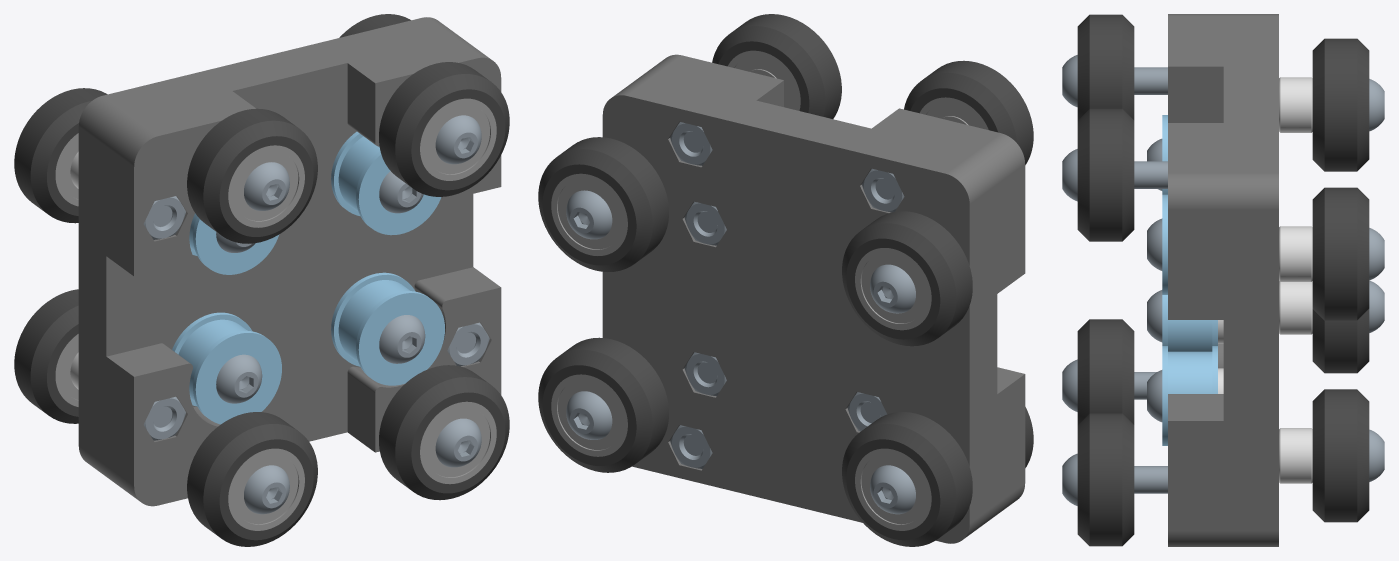
The model's file is carriage.obj.
3 renders of one model, left to right at view 1: azimuth 30°, elevation 25°; view 2: azimuth 150°, elevation 25°; view 3: azimuth 270°, elevation 25°, orthographic.
Parts seen in each view (by area): view 1: mesh134, mesh74, mesh119, mesh75, mesh112, mesh317, mesh76, mesh58, mesh230, mesh307, mesh60, mesh9 (+21 smaller); view 2: mesh286, mesh74, mesh119, mesh112, mesh75, mesh73, mesh76, mesh9, mesh58, mesh72, mesh43, mesh60 (+8 smaller); view 3: mesh74, mesh128, mesh112, mesh73, mesh75, mesh48, mesh9, mesh106, mesh318, mesh6, mesh113, mesh82 (+6 smaller).
Boxes of the visible parts, bbox=[...] form: mesh134: bbox=[106, 63, 473, 441]; mesh74: bbox=[14, 14, 488, 537]; mesh119: bbox=[78, 127, 133, 485]; mesh75: bbox=[203, 74, 509, 546]; mesh112: bbox=[103, 18, 476, 135]; mesh317: bbox=[195, 154, 444, 424]; mesh76: bbox=[219, 89, 505, 540]; mesh58: bbox=[234, 104, 489, 524]; mesh230: bbox=[134, 363, 217, 506]; mesh307: bbox=[134, 120, 221, 276]; mesh60: bbox=[228, 98, 496, 530]; mesh9: bbox=[244, 115, 481, 514]; mesh286: bbox=[602, 95, 969, 543]; mesh74: bbox=[558, 14, 1033, 536]; mesh119: bbox=[969, 164, 1025, 523]; mesh112: bbox=[627, 55, 1000, 173]; mesh75: bbox=[538, 149, 956, 546]; mesh73: bbox=[538, 26, 1016, 472]; mesh76: bbox=[542, 164, 940, 540]; mesh9: bbox=[566, 190, 915, 514]; mesh58: bbox=[558, 180, 925, 524]; mesh72: bbox=[542, 41, 997, 465]; mesh43: bbox=[672, 123, 902, 467]; mesh60: bbox=[551, 173, 931, 530]; mesh74: bbox=[1089, 14, 1357, 546]; mesh128: bbox=[1168, 210, 1278, 530]; mesh112: bbox=[1168, 16, 1278, 172]; mesh73: bbox=[1122, 15, 1369, 545]; mesh75: bbox=[1077, 15, 1369, 545]; mesh48: bbox=[1280, 77, 1311, 483]; mesh9: bbox=[1062, 55, 1384, 505]; mesh106: bbox=[1168, 173, 1278, 209]; mesh318: bbox=[1168, 320, 1212, 393]; mesh6: bbox=[1134, 67, 1167, 493]; mesh113: bbox=[1168, 66, 1223, 122]; mesh82: bbox=[1147, 138, 1162, 422].
Size of the model in its own units: 0.0872 by 0.0843 by 0.0579.
